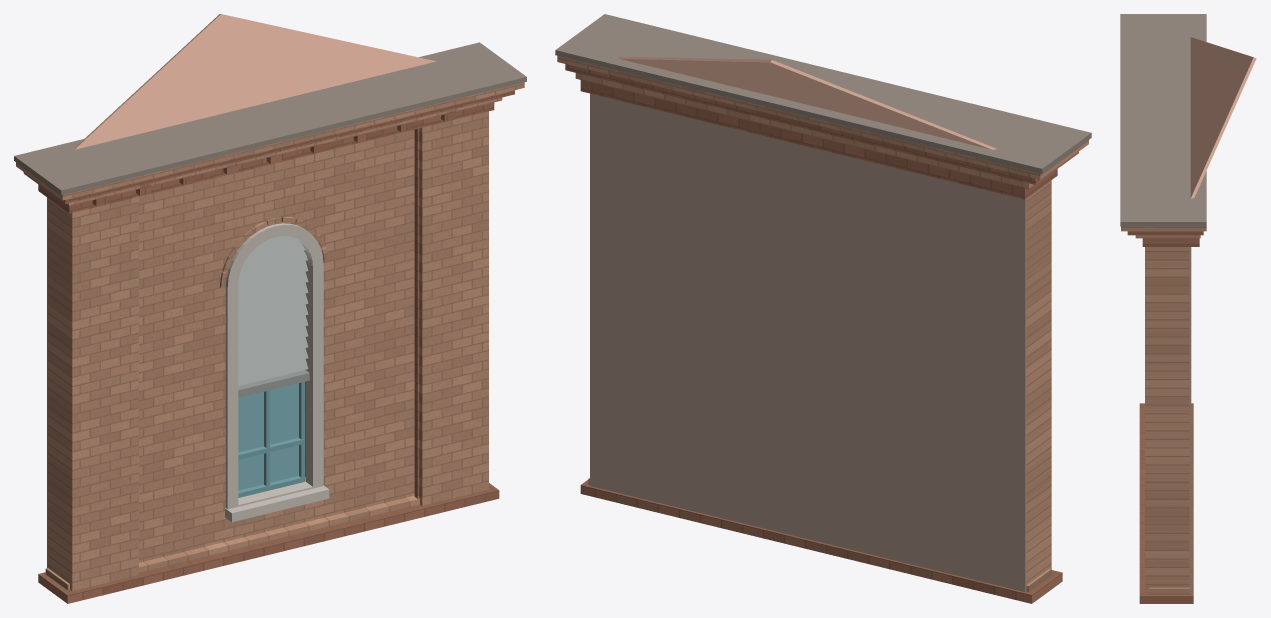
File: water-tower-crown-far.glb
The picture shows the model from 3 angles, left to right: view 1: azimuth 30°, elevation 25°; view 2: azimuth 150°, elevation 25°; view 3: azimuth 270°, elevation 25°; orthographic projection. The views are drawn at different scales.
Parts seen in each view (by area): view 1: 美童公学水塔顶层砖券窗与挑檐; view 2: 美童公学水塔顶层砖券窗与挑檐; view 3: 美童公学水塔顶层砖券窗与挑檐.
Part boxes in pixels (<box>): 美童公学水塔顶层砖券窗与挑檐: <box>14,14,526,603</box>; 美童公学水塔顶层砖券窗与挑檐: <box>555,14,1091,603</box>; 美童公学水塔顶层砖券窗与挑檐: <box>1120,14,1256,603</box>.
Size of the model in its own units: 4.92 by 4.97 by 1.36.
10 materials, 2 textured.
